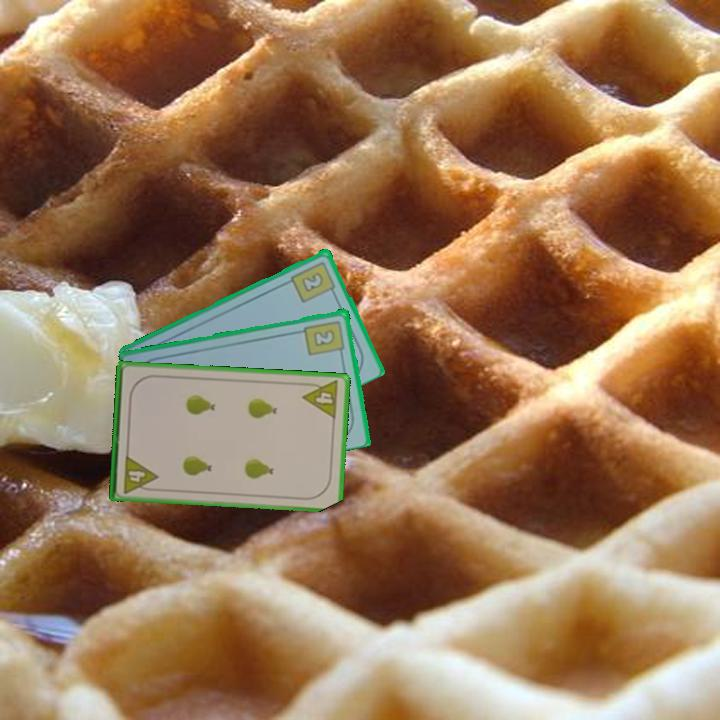2b: (288, 257, 339, 305), (301, 317, 348, 359)
4p: (299, 377, 342, 422), (120, 451, 160, 496)
